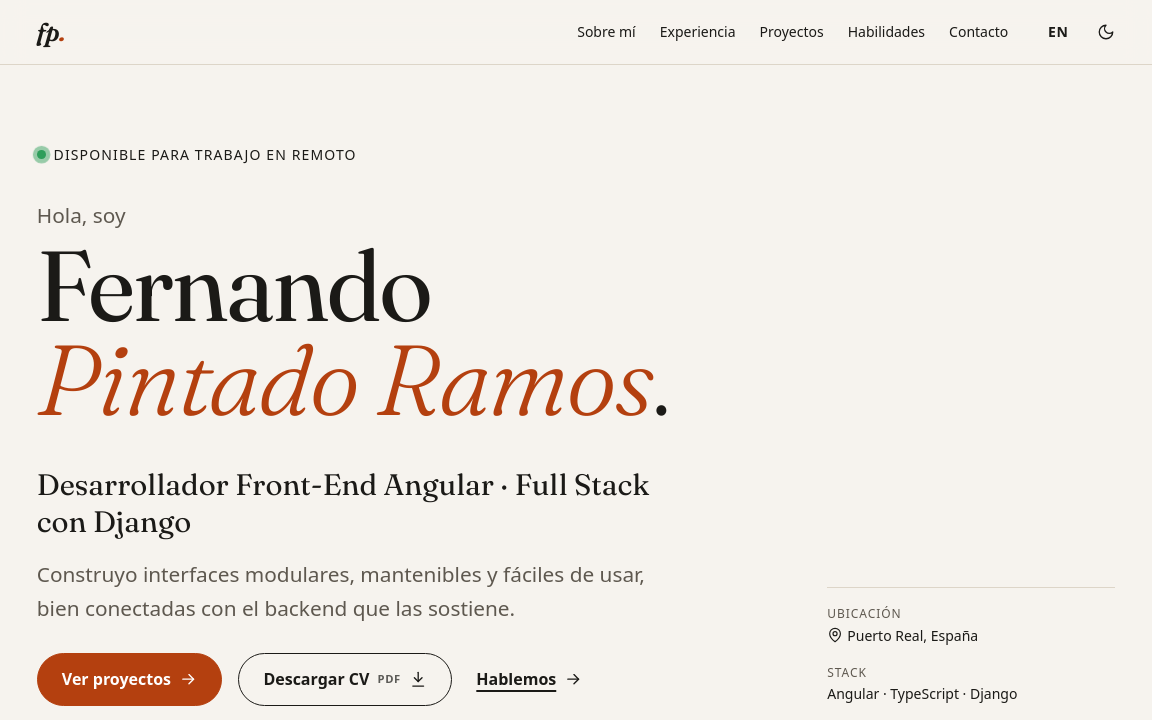
Test case: Portfolio › scrolls to a section from the navigation
The image size is (1152, 720).
Click the link "Proyectos": (792, 33) [760,13,824,52]
(page scrolled)
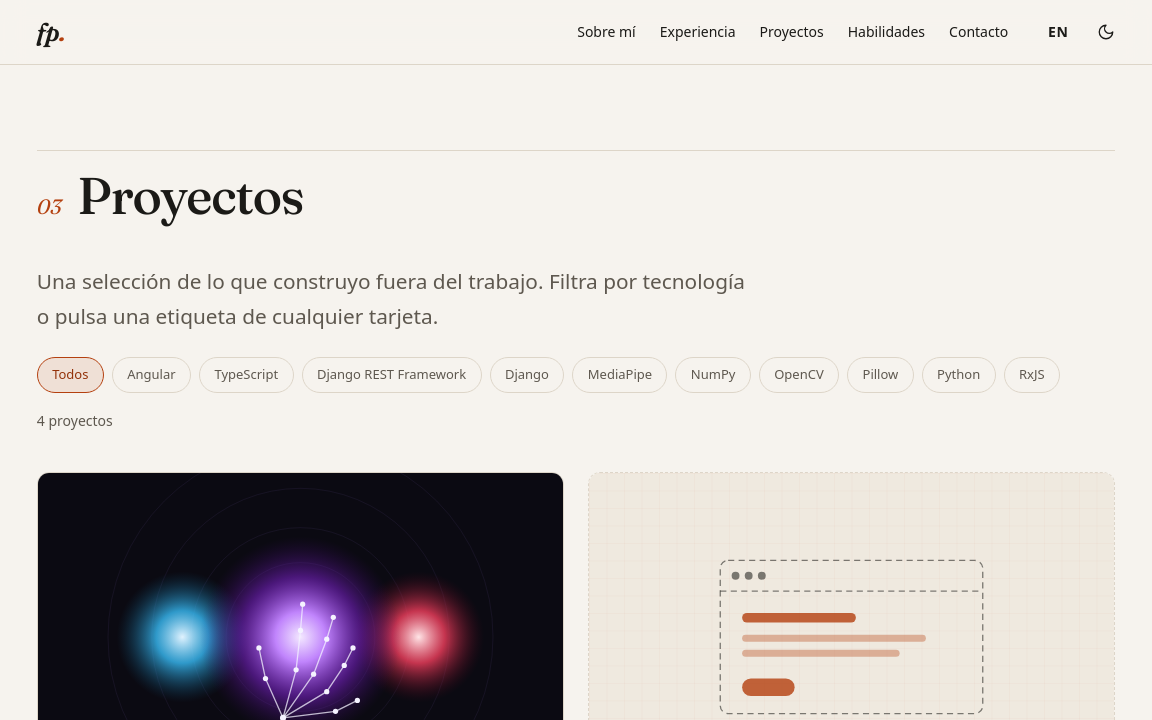
Result: the heading "Proyectos" is shown at [77,163,304,227]
